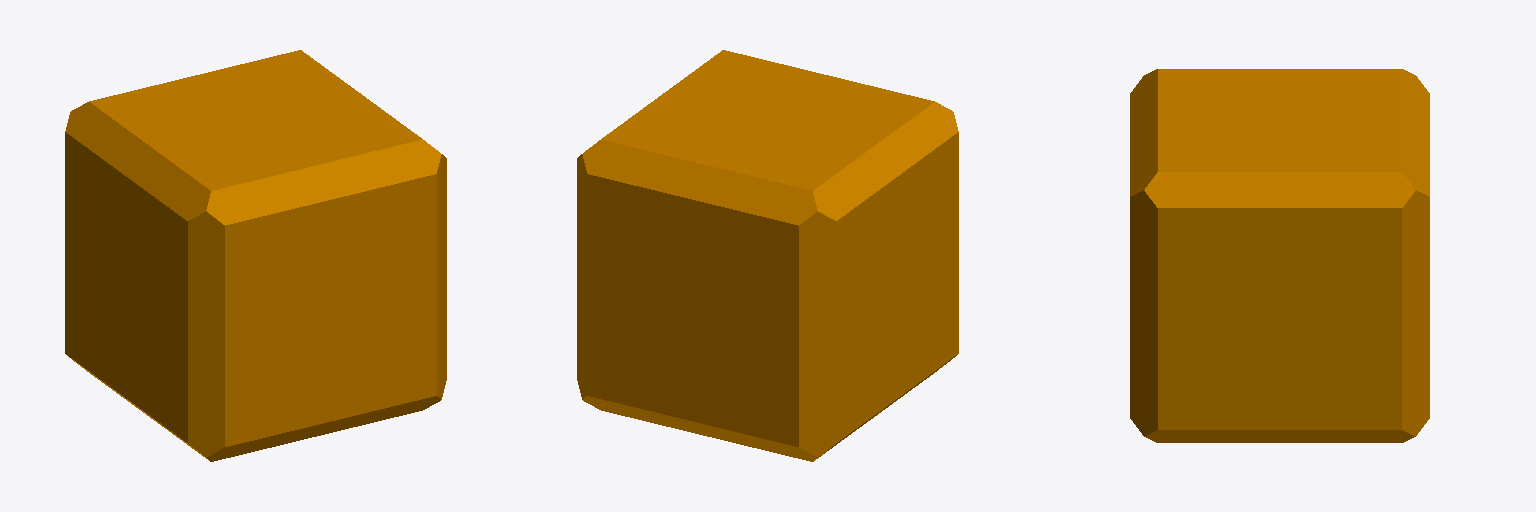
File: SinglePiece-0.obj
The picture shows the model from 3 angles: view 1: azimuth 30°, elevation 25°; view 2: azimuth 150°, elevation 25°; view 3: azimuth 270°, elevation 25°; orthographic projection.
Visible parts, largest first — view 1: Cube; view 2: Cube; view 3: Cube.
Part boxes in pixels (x1,y1,x2,y2): Cube: (65, 50, 446, 461); Cube: (577, 50, 958, 461); Cube: (1130, 69, 1429, 442).
Size of the model in its own units: 1 by 1 by 1.